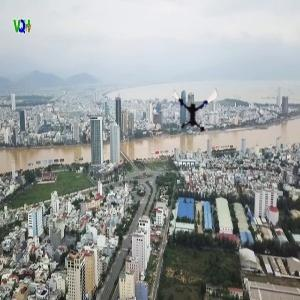drone: (168, 84, 220, 136)
